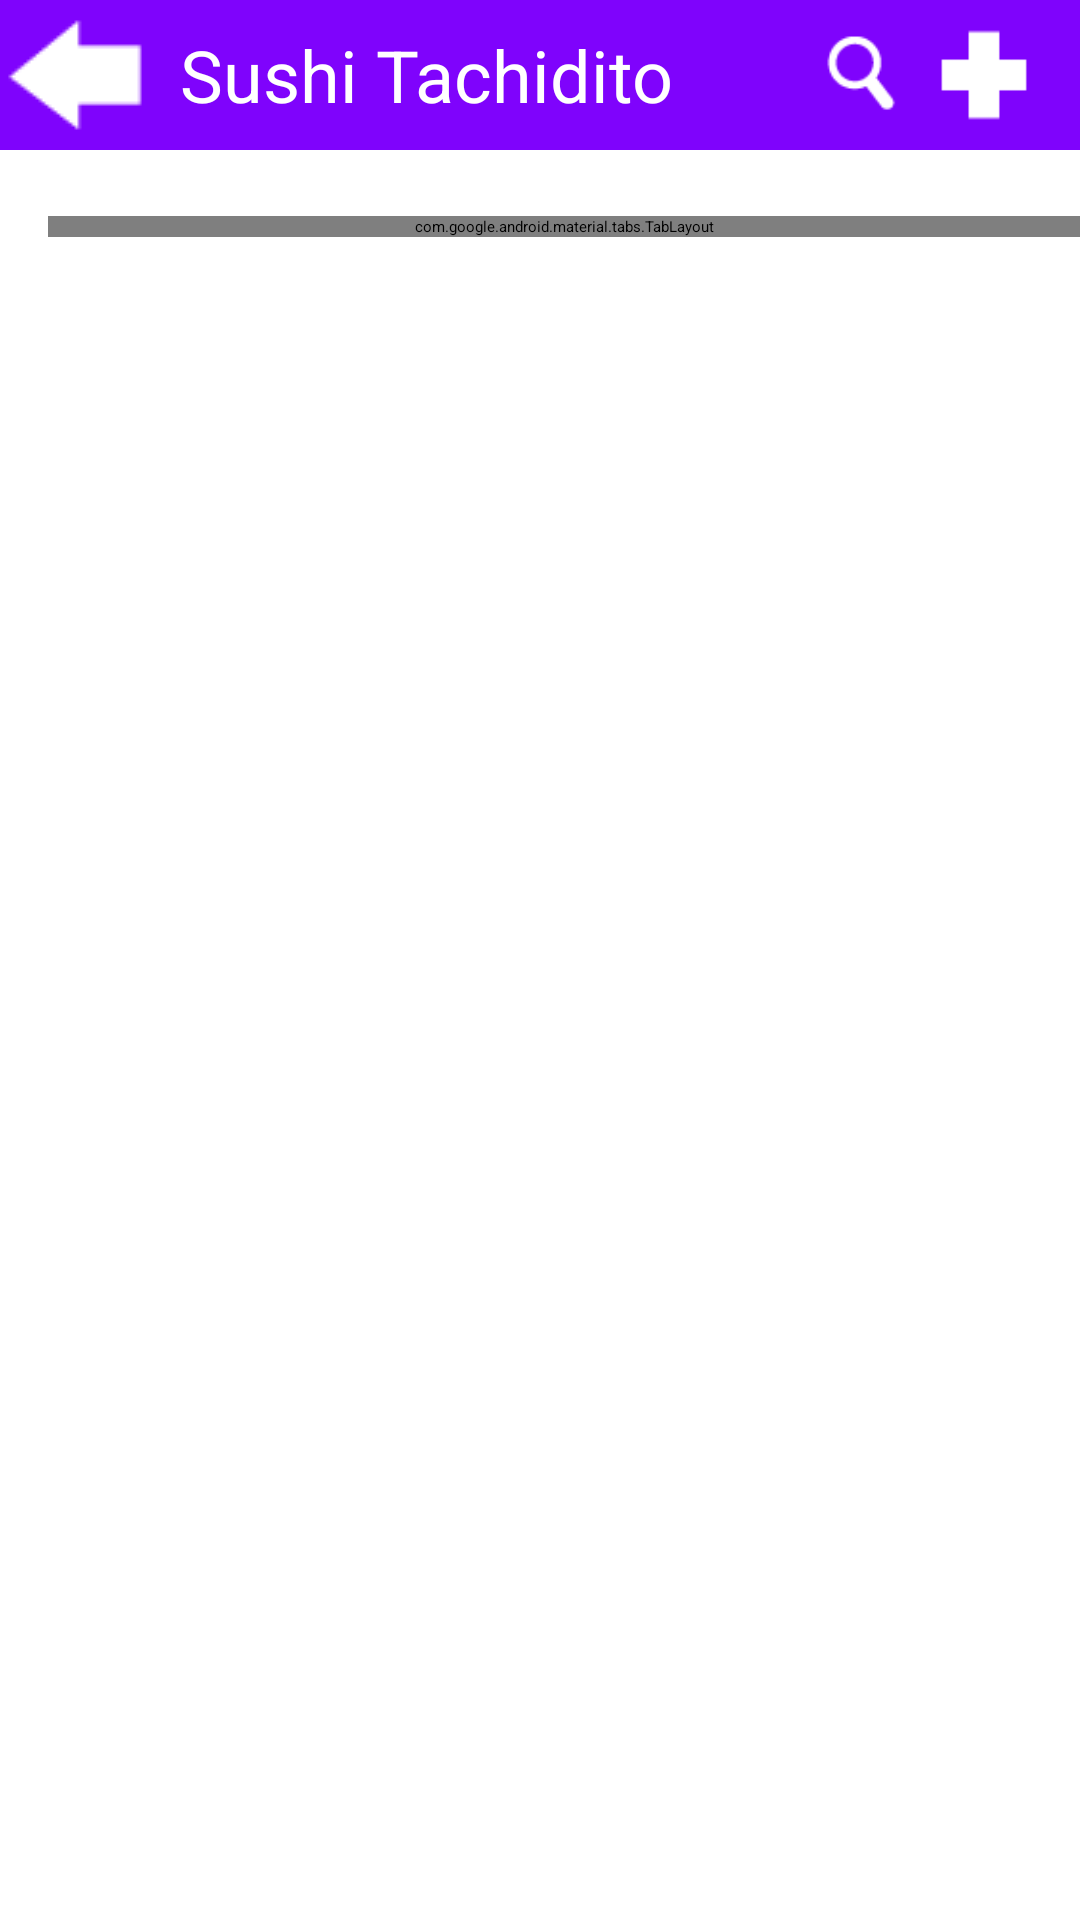

Point at icon controls on the screen. Image size 1080px x 1920px, points as point (x, y).
back: point (75, 75)
lupa search: point (861, 73)
plus: point (984, 75)
